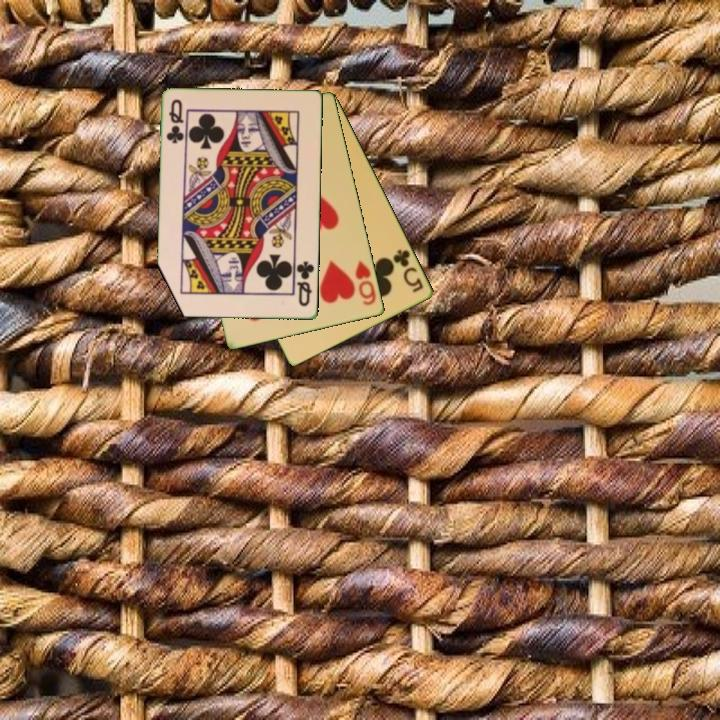5c: (390, 246, 427, 296)
6h: (352, 257, 379, 308)
Qc: (293, 258, 317, 309), (163, 96, 187, 147)
